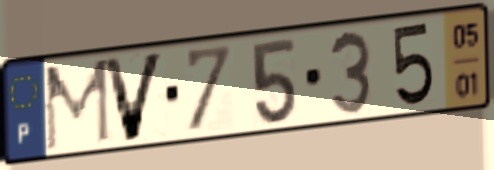3: (327, 27, 374, 119)
5: (248, 34, 299, 127), (390, 20, 436, 109)
7: (183, 42, 236, 137)
M: (42, 55, 113, 155)
V: (99, 49, 168, 146)
